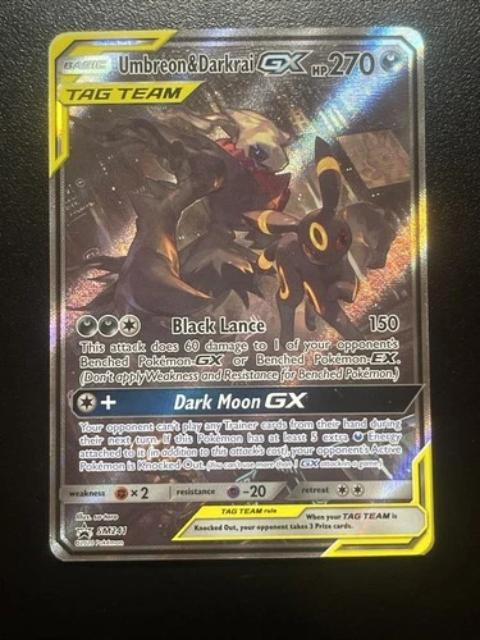Card: (44, 20, 440, 567)
Name: (112, 45, 324, 82)
